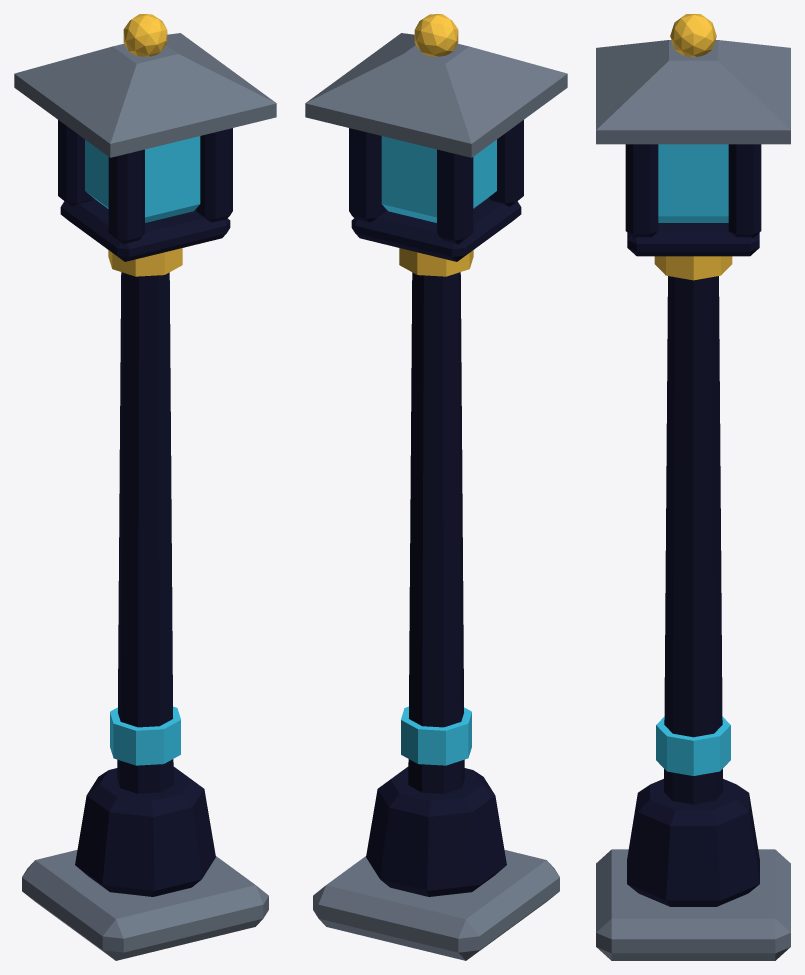
The model's file is Prop_hero_city_StreetLamp.glb.
The picture shows the model from 3 angles, left to right: view 1: azimuth 30°, elevation 25°; view 2: azimuth 150°, elevation 25°; view 3: azimuth 270°, elevation 25°; orthographic projection.
Parts seen in each view (by area): view 1: Ink_0D0F2B, StoneDark_6B7686, ZoneCyan_35C9F0, Gold_FFC83D; view 2: Ink_0D0F2B, StoneDark_6B7686, ZoneCyan_35C9F0, Gold_FFC83D; view 3: Ink_0D0F2B, StoneDark_6B7686, ZoneCyan_35C9F0, Gold_FFC83D.
Part boxes in pixels (x1,y1,x2,y2): Ink_0D0F2B: [58, 120, 232, 896]; StoneDark_6B7686: [14, 33, 276, 960]; ZoneCyan_35C9F0: [85, 136, 200, 765]; Gold_FFC83D: [108, 14, 182, 276]; Ink_0D0F2B: [349, 120, 523, 896]; StoneDark_6B7686: [305, 33, 567, 960]; ZoneCyan_35C9F0: [381, 136, 496, 765]; Gold_FFC83D: [399, 14, 473, 276]; Ink_0D0F2B: [625, 144, 761, 906]; StoneDark_6B7686: [596, 40, 790, 960]; ZoneCyan_35C9F0: [656, 144, 730, 775]; Gold_FFC83D: [654, 14, 732, 280].
Bounding box in the file's own units: 2.5 × 12.9 × 2.5.
